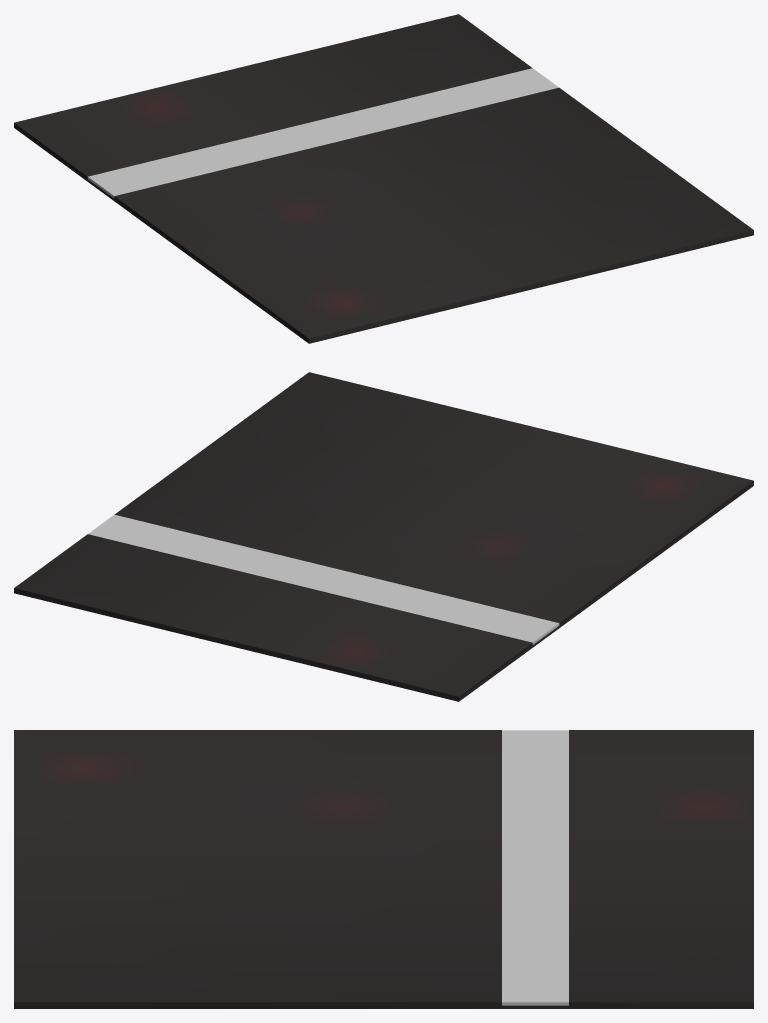
File: ArenaDummy_20230913.fbx
3 views of the same model, one above another, from view 1: azimuth 30°, elevation 25°; view 2: azimuth 150°, elevation 25°; view 3: azimuth 270°, elevation 25° (orthographic). The views are drawn at different scales.
Parts seen in each view (by area): view 1: ArenaDummy, LavaDummy; view 2: ArenaDummy, LavaDummy; view 3: ArenaDummy, LavaDummy.
Boxes of the visible parts, x1,y1,x2,y2 form: ArenaDummy: (14,14,753,343); LavaDummy: (87,68,558,198); ArenaDummy: (14,372,753,701); LavaDummy: (88,514,559,644); ArenaDummy: (14,730,753,1008); LavaDummy: (502,730,568,1005).
Bounding box in the file's own units: 89.48 × 1 × 103.
